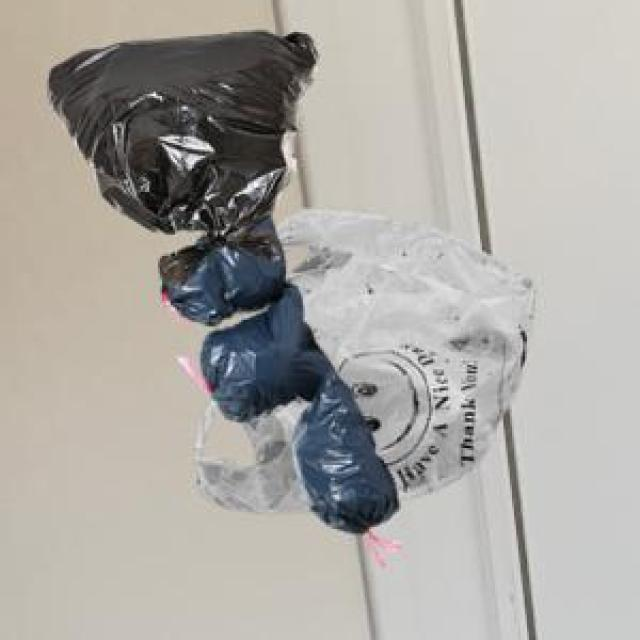miscellaneous trash: (158, 211, 395, 529), (45, 28, 314, 284)
